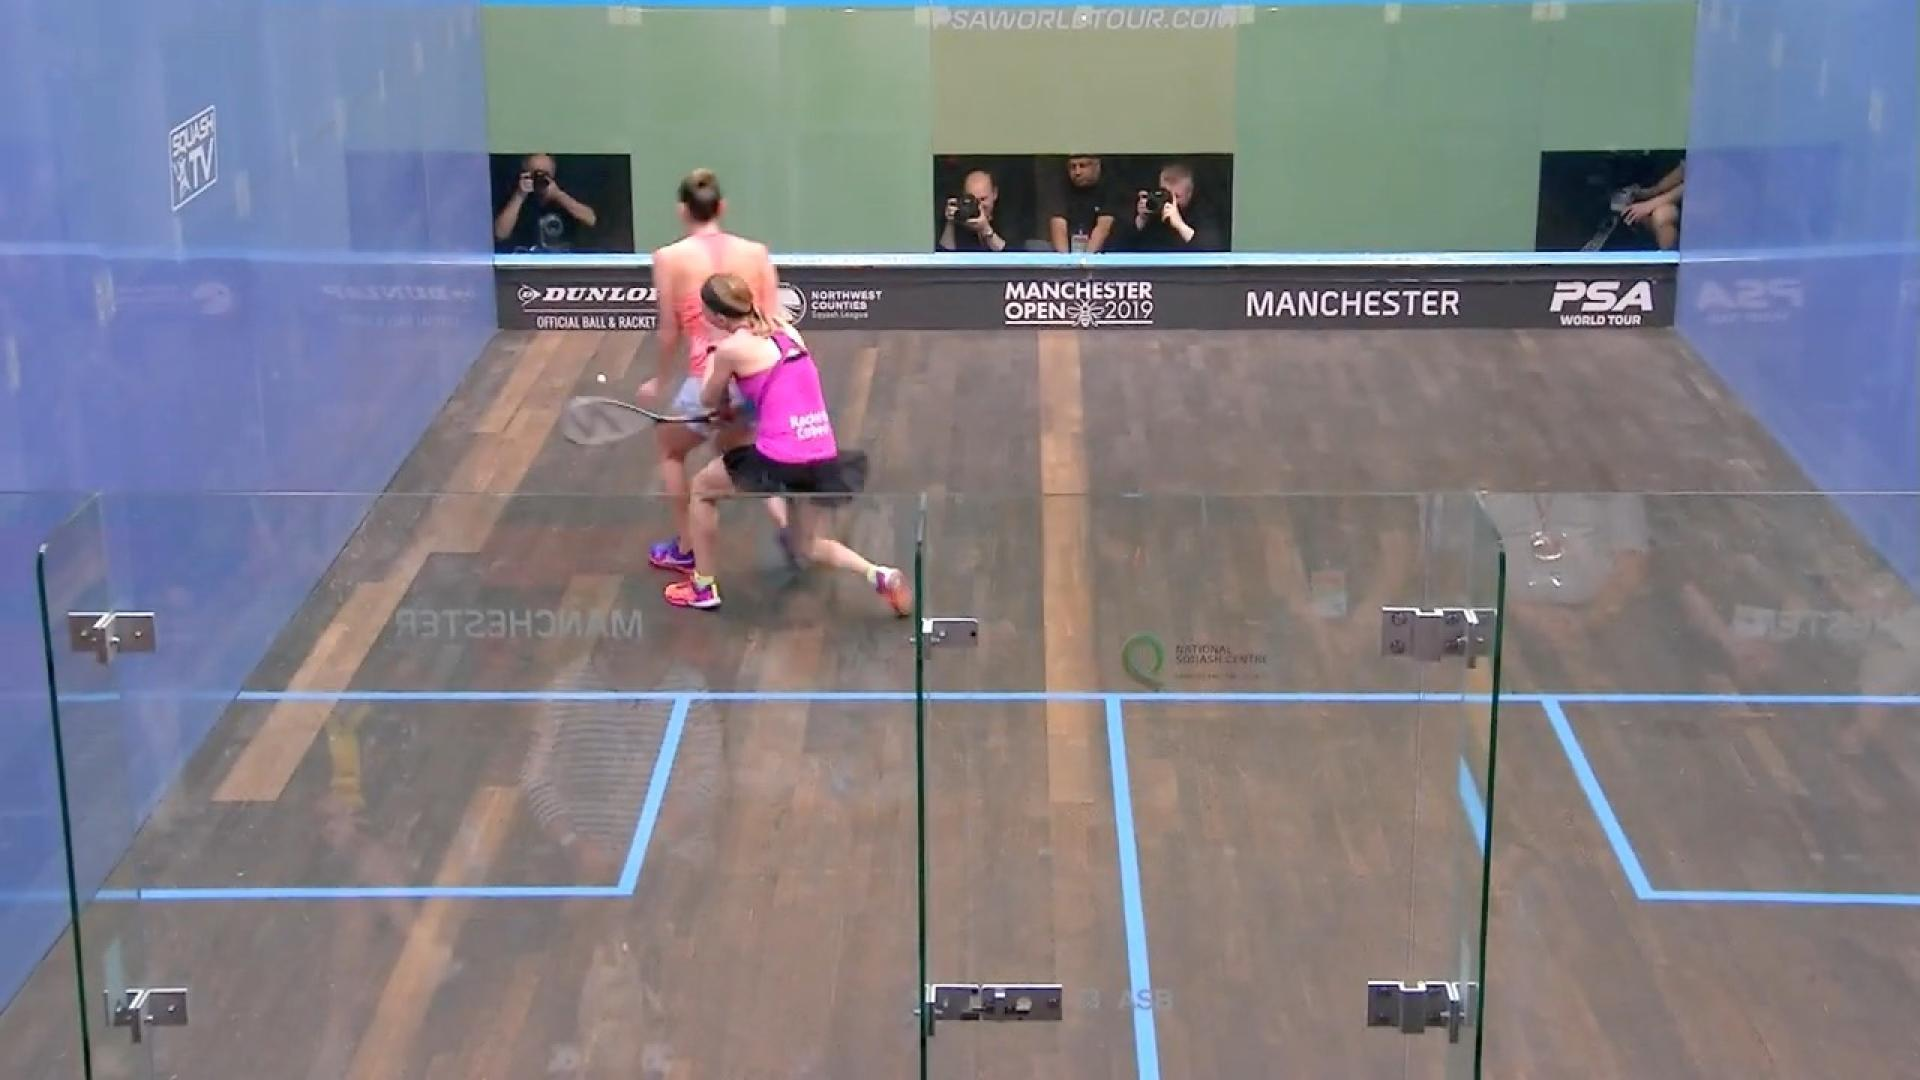Squash-Ball: (585, 357, 622, 402)
